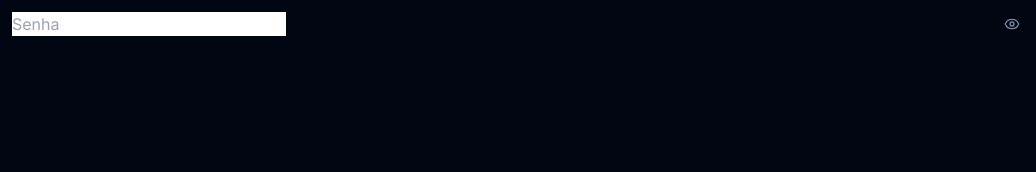
Scenario: PasswordInput › toggles to type='text' on click and updates aria-label + aria-pressed
Click the button named "Mostrar senha": (1012, 24) [1000,12,1024,36]
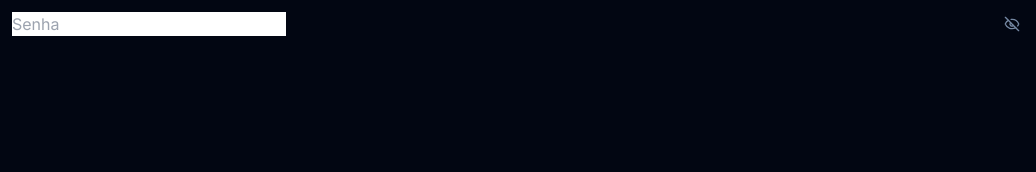
Expected: the button named "Ocultar senha" is pressed
Click the button named "Ocultar senha": (1012, 24) [1000,12,1024,36]
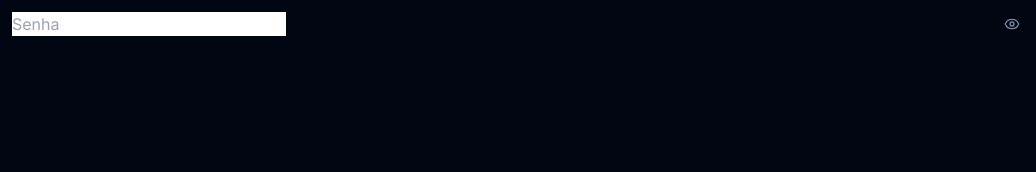
Expected: the button named "Mostrar senha" is not pressed, [1000,12,1024,36]
